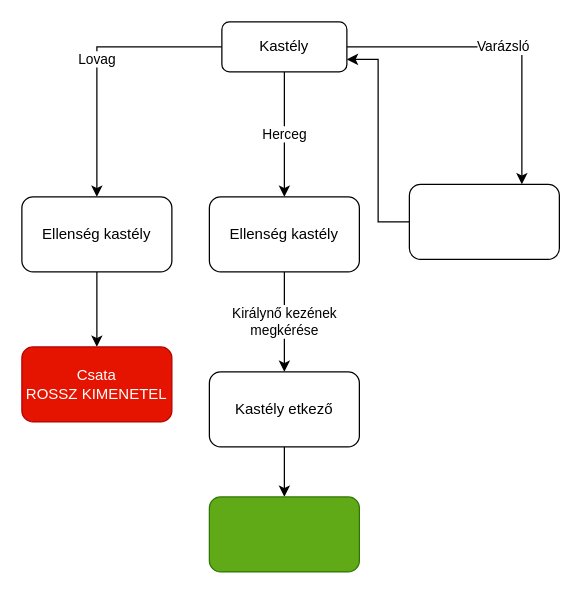
Image size: 581x594. Some labels were removed from this diagram. The centre of each missing label's shape, as x and y in pixels:
Esküvő JÓ KIMENETEL: point (283, 534)
Varázs erdő: point (483, 221)
